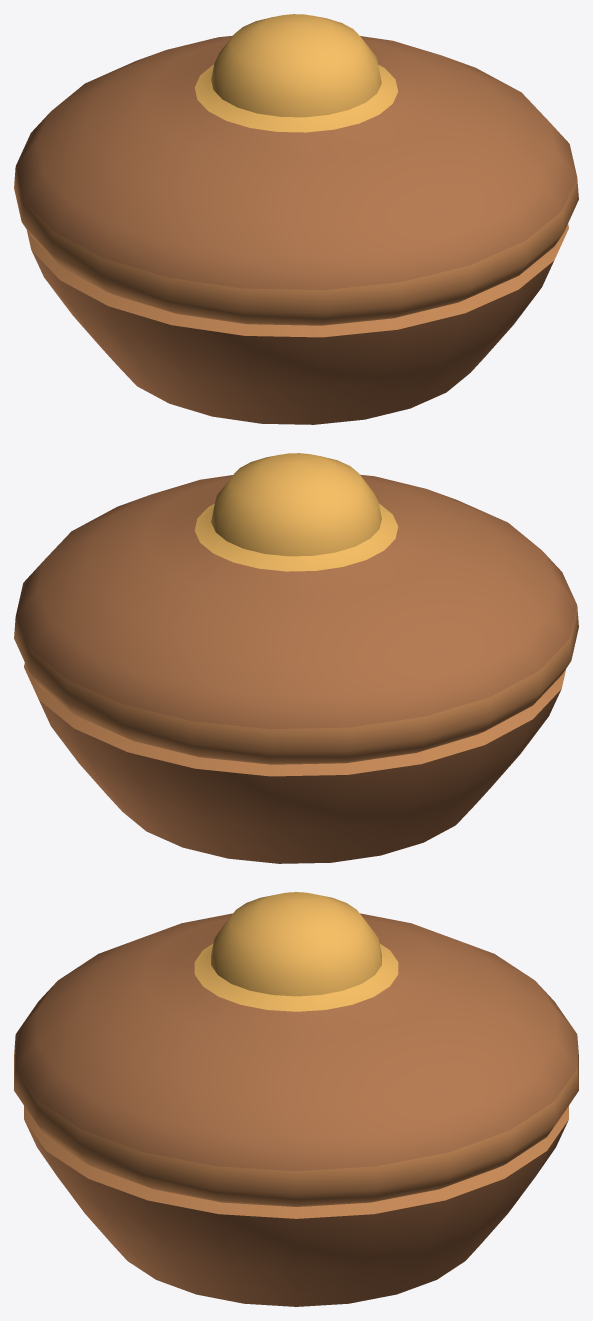
The model's file is BonangPenerus.fbx.
3 views of the same model, one above another, from view 1: azimuth 30°, elevation 25°; view 2: azimuth 150°, elevation 25°; view 3: azimuth 270°, elevation 25° (orthographic).
Visible parts, largest first — view 1: BonangPenerus_Mesh; view 2: BonangPenerus_Mesh; view 3: BonangPenerus_Mesh.
Boxes of the visible parts, x1=… form: BonangPenerus_Mesh: x1=14, y1=14, x2=578, y2=424; BonangPenerus_Mesh: x1=14, y1=453, x2=578, y2=863; BonangPenerus_Mesh: x1=14, y1=892, x2=578, y2=1306.
Bounding box in the file's own units: 0.172 × 0.1086 × 0.1702.
